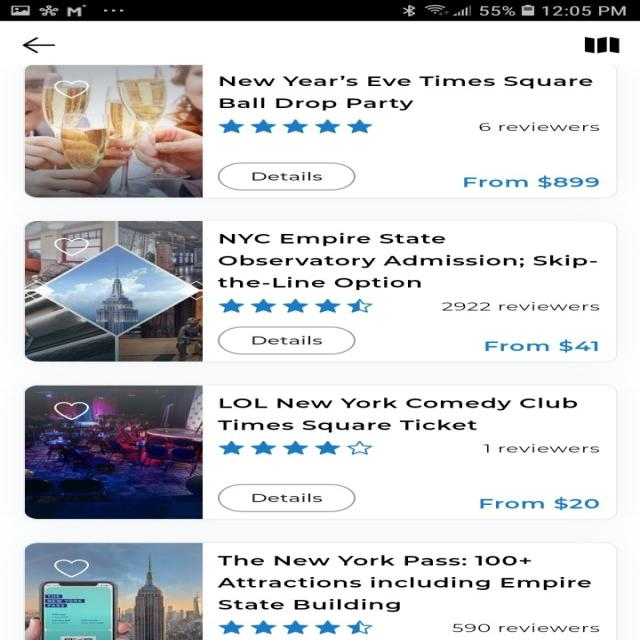Icon: (218, 298, 372, 313), (218, 119, 372, 134), (218, 620, 372, 634), (218, 440, 372, 454), (55, 559, 89, 577), (54, 402, 88, 420), (54, 238, 88, 256), (54, 80, 88, 98), (584, 37, 619, 54), (22, 37, 55, 54)
Image: (25, 221, 203, 361), (25, 65, 203, 198), (26, 385, 202, 519), (25, 542, 203, 640)
Text: (217, 554, 591, 612), (216, 233, 596, 290), (218, 76, 592, 110), (217, 397, 577, 432), (463, 175, 598, 188), (484, 339, 598, 353), (479, 497, 599, 510), (452, 623, 600, 632), (441, 302, 599, 310), (478, 122, 598, 132), (482, 443, 600, 452)
TextButton: (217, 483, 356, 512), (217, 326, 356, 354), (218, 162, 356, 190)
